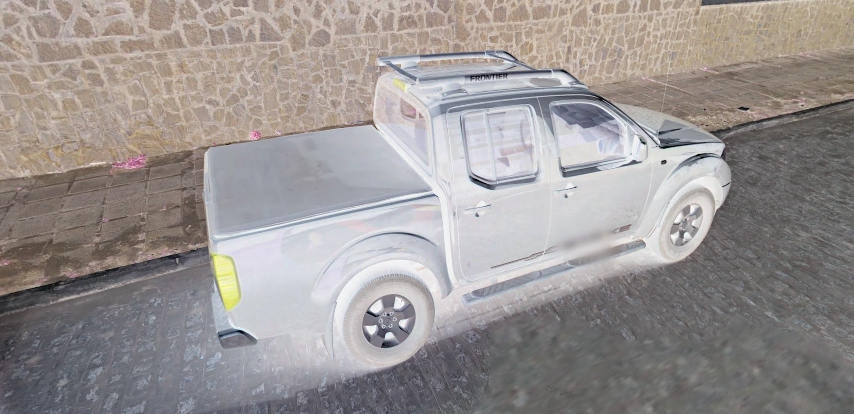car: (199, 43, 735, 375)
